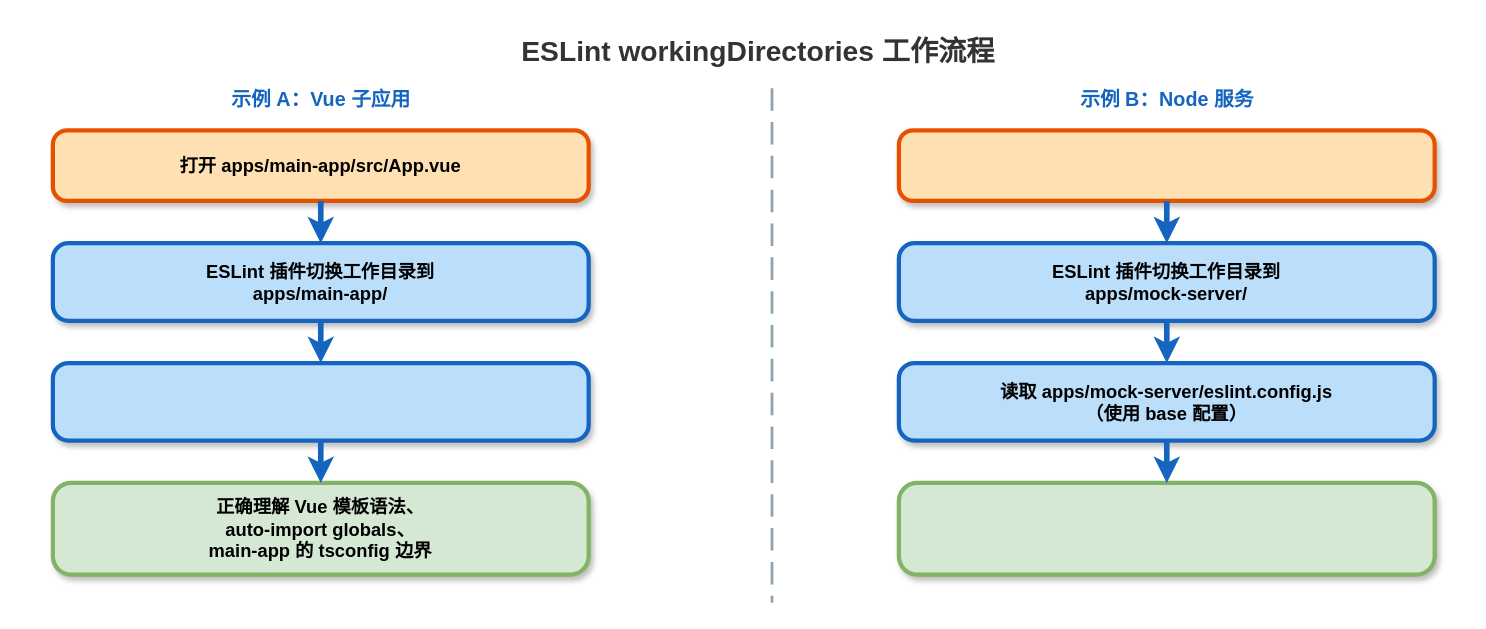
This 1486x629 diagram has some shape labels left out. The shapes that lost their labels are listed below. From the top down, each one's centre as x and y in pixels, then its label:
the point at 1167,167: 打开 apps/mock-server/routes/xxx.ts
the point at 321,403: 读取 apps/main-app/eslint.config.js （使用 vue3 配置）
the point at 1167,530: 只应用 TypeScript 规则， 不会误报 Vue 相关错误
